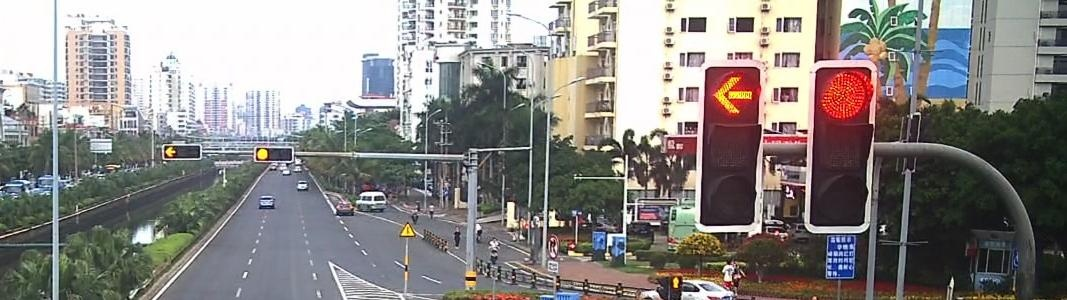red: (821, 69, 875, 124), (255, 146, 270, 163)
redleft: (710, 70, 757, 117), (162, 144, 177, 159)
redpeople: (670, 275, 681, 290)
